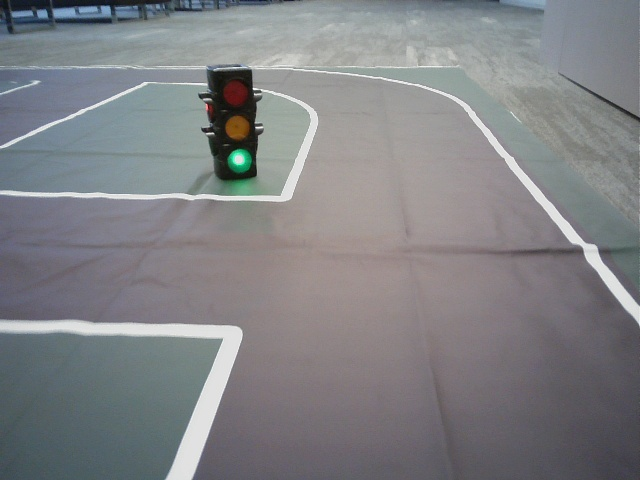green: (212, 73, 256, 177)
